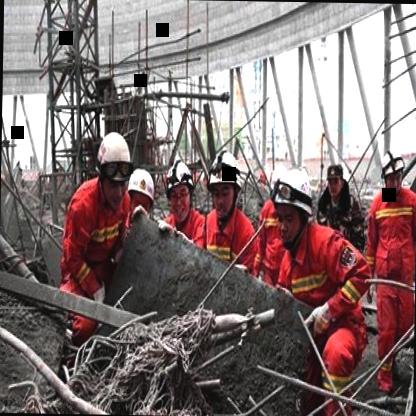helmet: (274, 167, 315, 246), (92, 129, 133, 202), (209, 148, 245, 220), (123, 168, 156, 229), (381, 147, 405, 196), (168, 161, 192, 209)
